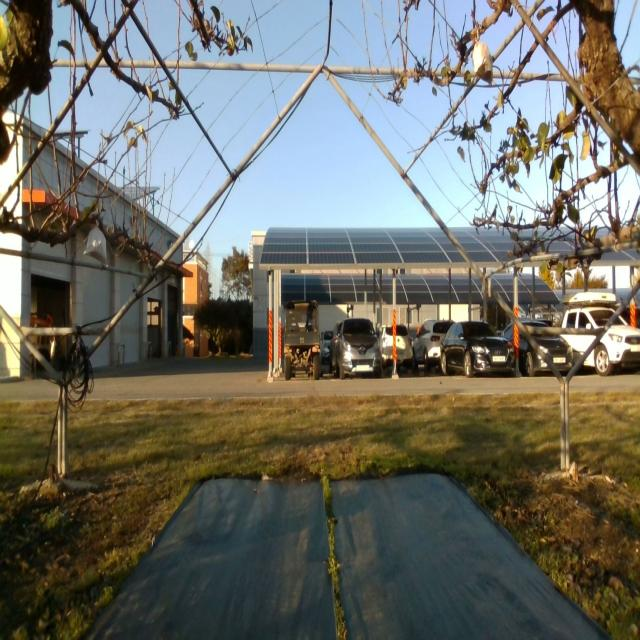pearbags: (83, 218, 109, 268), (473, 29, 493, 85)
